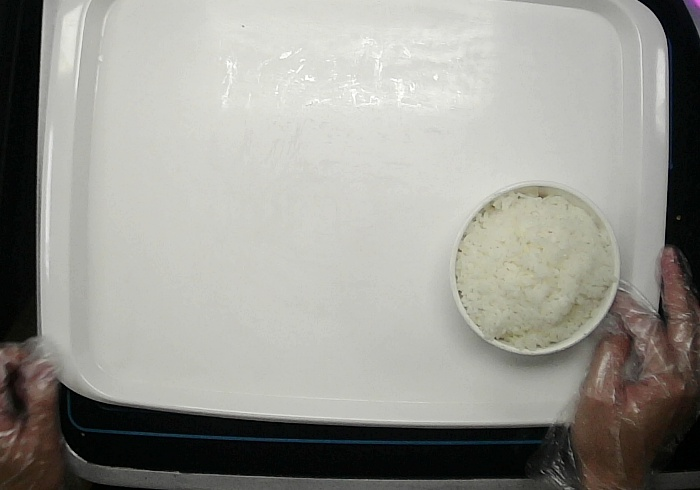HZYJPL-Fan_Wan: (449, 178, 622, 355)
